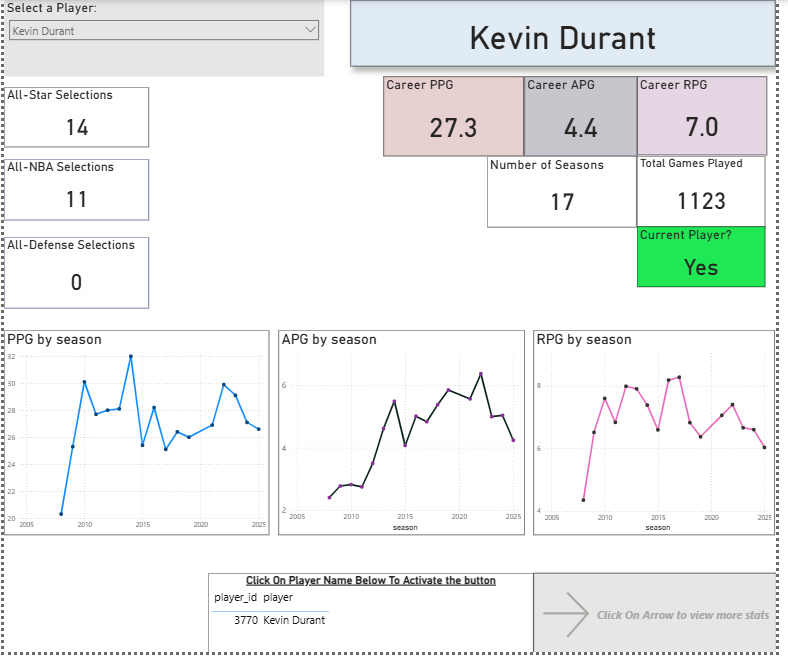

The dashboard page shown, as its layout file describes it:
{"tool":"powerbi","page":{"name":"Individual Player Analysis","canvas":[1420,1200],"ordinal":0},"visuals":[{"type":"slicer","title":"Select a Player:","fields":{"Values":["player_stats_updated.player"]},"box":[0,0,589.5,140.9],"z":0},{"type":"card","title":"Career RPG","fields":{"Values":["_Measures.career_rpg"]},"box":[1164.1,140.3,239.3,144.9],"z":1000},{"type":"card","title":"Career APG","fields":{"Values":["_Measures.career_apg"]},"box":[957.3,139.9,207.6,146.4],"z":2000},{"type":"lineChart","title":"PPG by season","fields":{"Category":["player_stats_updated.season"],"Y":["player_stats_updated.PPG"]},"box":[0,607.4,487.7,377.3],"z":3000},{"type":"lineChart","title":"APG by season","fields":{"Category":["player_stats_updated.season"],"Y":["player_stats_updated.APG"]},"box":[503.8,607.4,453.2,377.3],"z":4000},{"type":"lineChart","title":"RPG by season","fields":{"Category":["player_stats_updated.season"],"Y":["player_stats_updated.RPG"]},"box":[975.5,607.4,444,377.3],"z":5000},{"type":"card","title":"Total Games Played","fields":{"Values":["player_stats_updated.games"]},"box":[1164.9,286.3,236,131.1],"z":6000},{"type":"card","title":"Career PPG","fields":{"Values":["_Measures.career_ppg"]},"box":[699.4,139.9,257.9,146.4],"z":7000},{"type":"card","title":"All-Star Selections","fields":{"Values":["all_star.season"]},"box":[0,158.7,266.9,110.4],"z":8000},{"type":"card","fields":{"Values":["player_stats_updated.player"]},"box":[637.3,0,782.2,121.9],"z":9000},{"type":"card","title":"All-NBA Selections","fields":{"Values":["all_nba.All_NBA_Selection"]},"box":[0,292.2,266.9,112.7],"z":10000},{"type":"card","title":"Current Player?","fields":{"Values":["players_info.Current_Player"]},"box":[1164.9,417.5,236,111.5],"z":11000},{"type":"card","title":"Number of Seasons","fields":{"Values":["players_info.num_seasons"]},"box":[889.6,286.3,275.4,131.1],"z":12000},{"type":"card","title":"All-Defense Selections","fields":{"Values":["all_nba.All_Defense_Selection"]},"box":[0,434.8,266.9,131.1],"z":13000},{"type":"tableEx","title":"Click On Player Name Below To Activate the button","fields":{"Values":["player_stats_updated.player_id","player_stats_updated.player"]},"box":[375.5,1054.6,599.1,154.6],"z":14000},{"type":"actionButton","title":"Click On Arrow to learn more","box":[974.6,1054.6,447.2,154.6],"z":15000}]}

Visuals, with their boxes in screenshot pixels (x1, y1, x2, y2), scaled from the page's 1420x1200 canvas onto the 788x656 screenshot:
"Select a Player:" slicer: [0,0,327,77]
"Career RPG" card: [646,77,779,156]
"Career APG" card: [531,76,646,157]
"PPG by season" lineChart: [0,332,271,538]
"APG by season" lineChart: [280,332,531,538]
"RPG by season" lineChart: [541,332,787,538]
"Total Games Played" card: [646,157,777,228]
"Career PPG" card: [388,76,531,157]
"All-Star Selections" card: [0,87,148,147]
card - player_stats_updated.player: [354,0,787,67]
"All-NBA Selections" card: [0,160,148,221]
"Current Player?" card: [646,228,777,289]
"Number of Seasons" card: [494,157,646,228]
"All-Defense Selections" card: [0,238,148,309]
"Click On Player Name Below To Activate the button" tableEx: [208,577,541,655]
"Click On Arrow to learn more" actionButton: [541,577,787,655]
